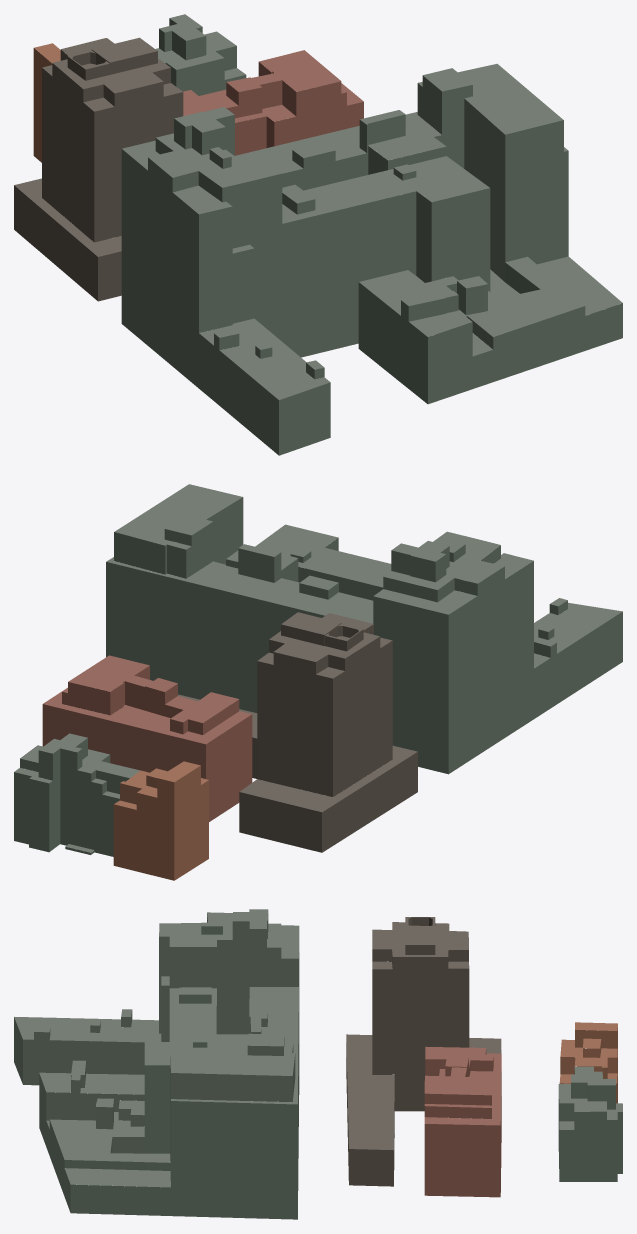
The model's file is tile--6_-4.glb.
3 renders of one model, top to bottom at view 1: azimuth 30°, elevation 25°; view 2: azimuth 150°, elevation 25°; view 3: azimuth 270°, elevation 25°, orthographic. The views are drawn at different scales.
Parts seen in each view (by area): view 1: wall, roof; view 2: wall, roof; view 3: wall, roof.
Boxes of the visible parts, <box> form: wall: <box>14,18,622,455</box>; roof: <box>14,14,622,400</box>; wall: <box>14,497,622,880</box>; roof: <box>14,484,622,852</box>; wall: <box>14,913,622,1219</box>; roof: <box>14,909,622,1187</box>.
Size of the model in its own units: 117 by 60.32 by 192.
